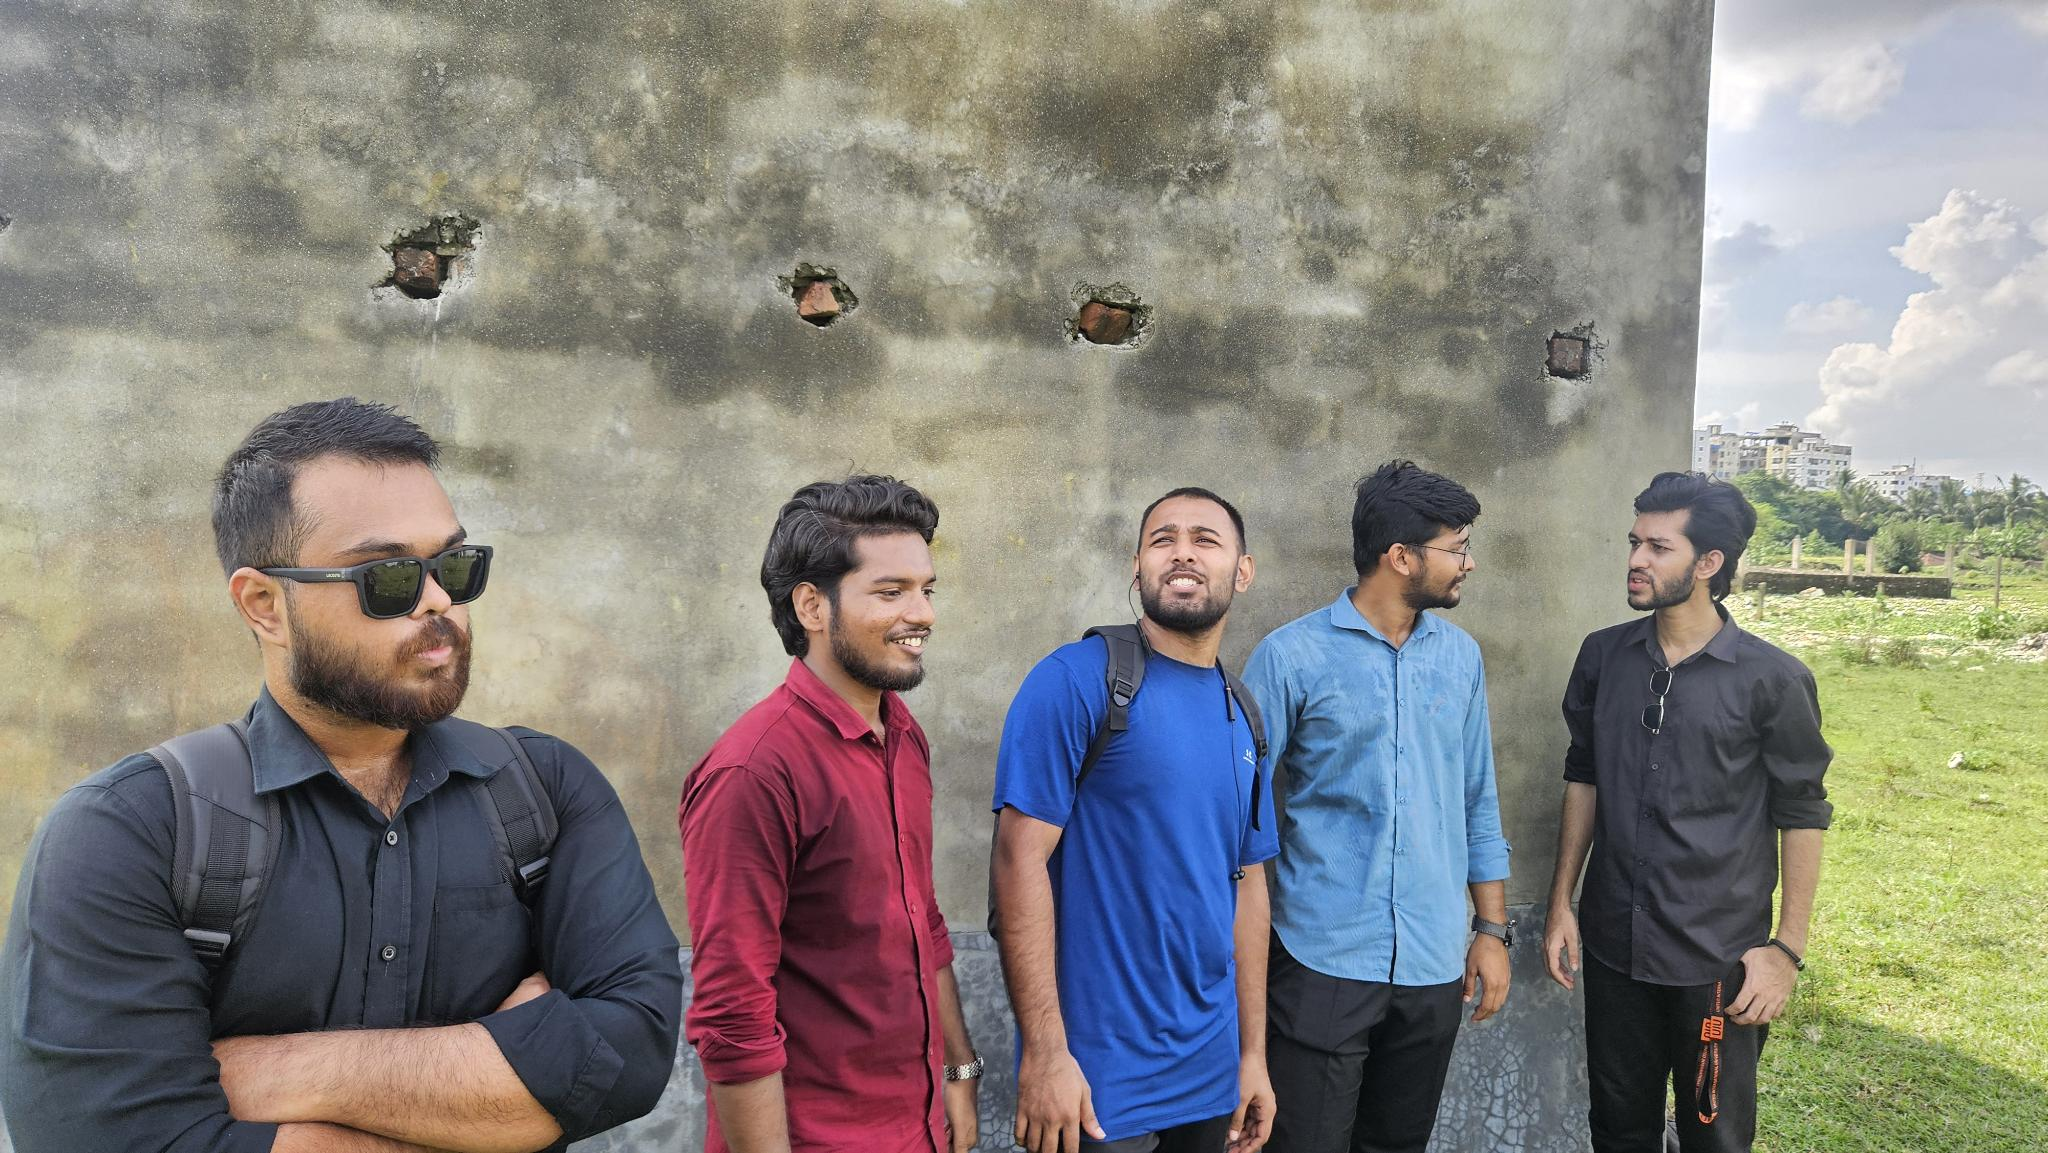nonSmoker: (0, 397, 684, 1153), (678, 471, 980, 1153), (1542, 465, 1837, 1153), (989, 485, 1281, 1153), (1241, 461, 1515, 1153)
